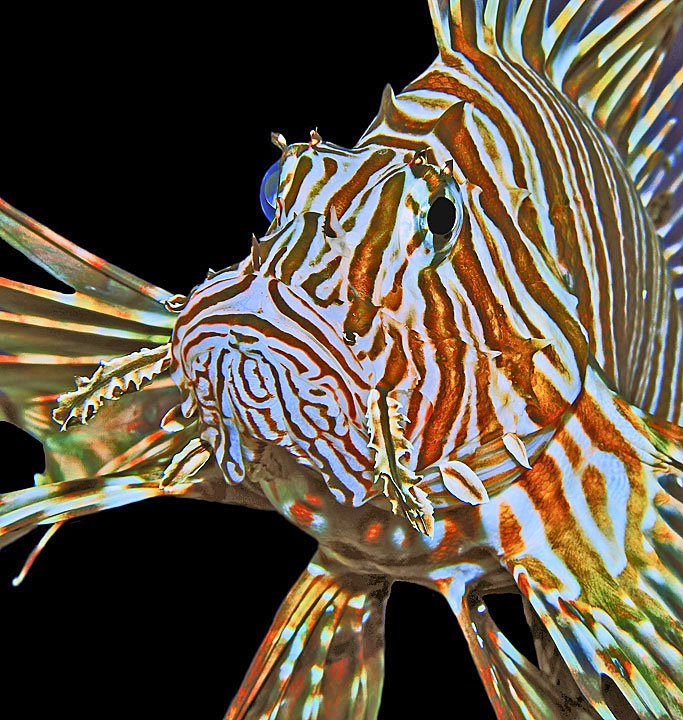Pterois_volitans: (42, 26, 683, 689)
